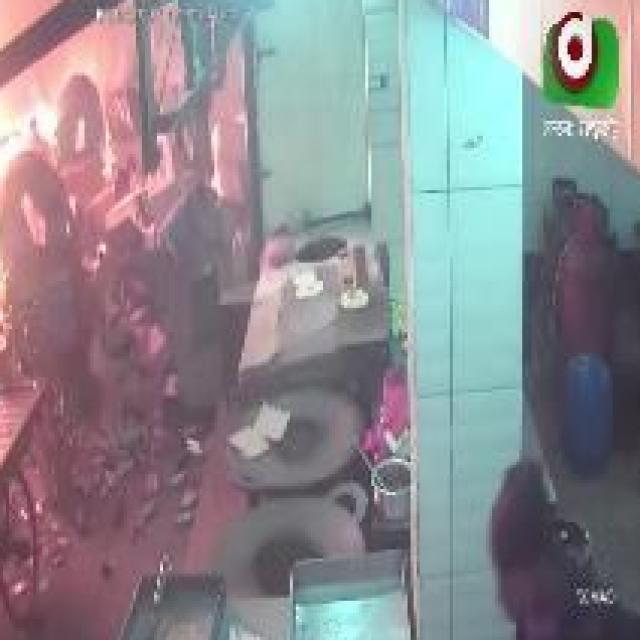smoke: (0, 66, 85, 287)
